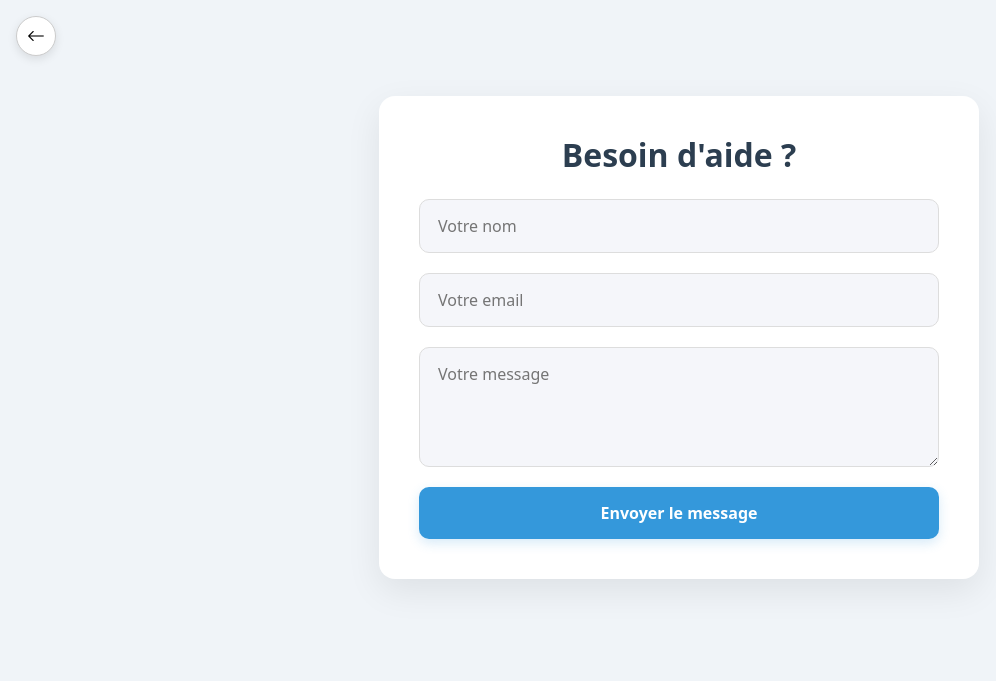
Test: ContactLogin Component › envoie le formulaire et affiche un message de confirmation
Type "Alice" into the field with placeholder "Votre nom" at [679, 226], box [419,199,939,253]
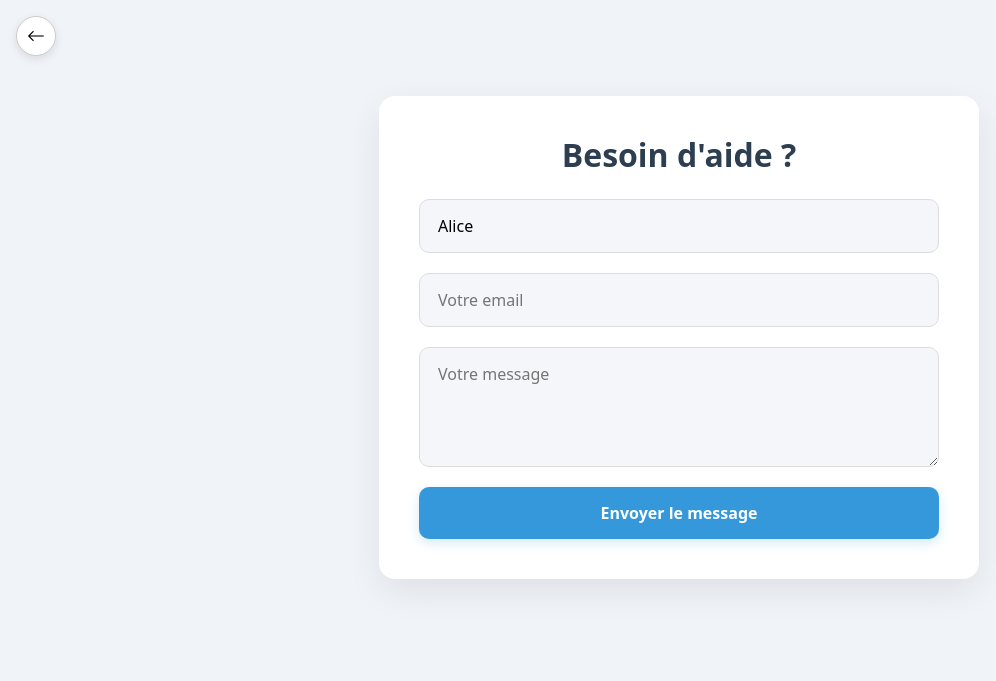
Type "alice@mail.com" into the field with placeholder "Votre email" at [679, 300], box [419,273,939,327]
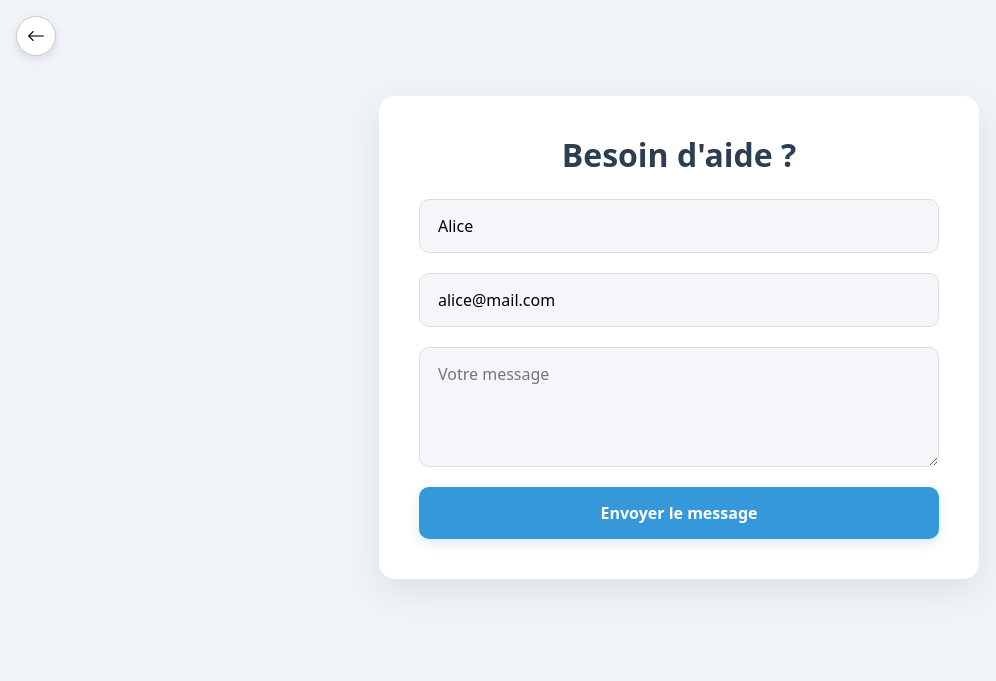
Type "Message test" into the text box with placeholder "Votre message" at [679, 407], box [419,347,939,467]
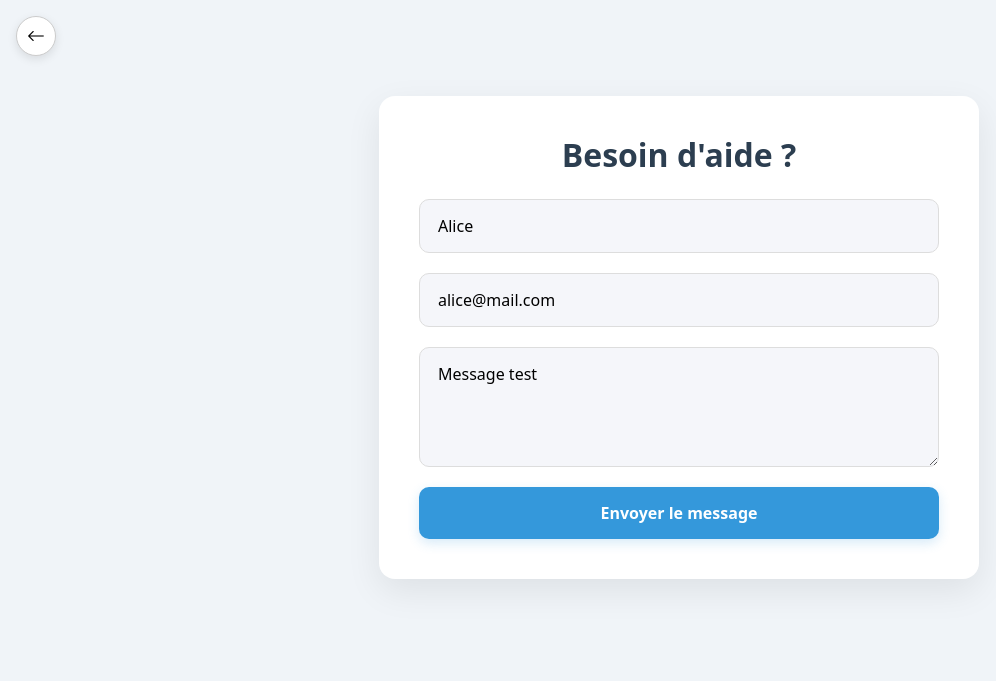
Click the button "Envoyer le message" at [679, 513], box [419,487,939,539]
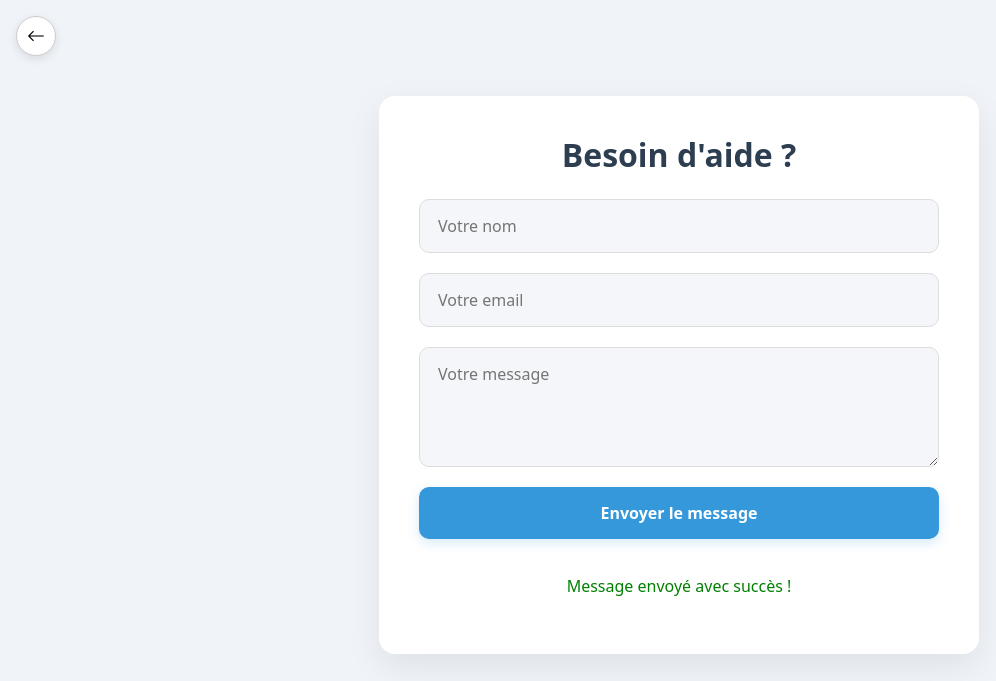
Expected: the text "Message envoyé avec succès !" is shown, [567,575,791,597]
